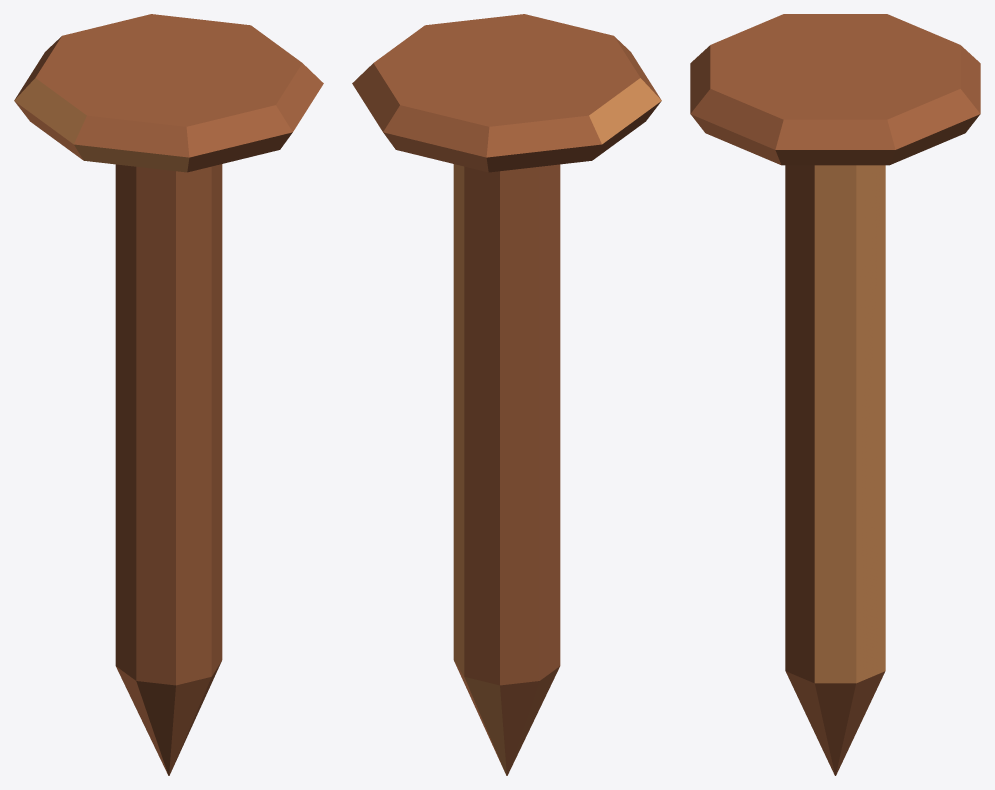
The model's file is Nail_M_Rust.glb.
3 renders of one model, left to right at view 1: azimuth 30°, elevation 25°; view 2: azimuth 150°, elevation 25°; view 3: azimuth 270°, elevation 25°, orthographic.
Parts seen in each view (by area): view 1: Nail_M_Rust; view 2: Nail_M_Rust; view 3: Nail_M_Rust.
Part boxes in pixels (x1,y1,x2,y2): Nail_M_Rust: (14, 14, 323, 775); Nail_M_Rust: (352, 14, 661, 775); Nail_M_Rust: (690, 14, 980, 775).
Size of the model in its own units: 0.0482 by 0.13 by 0.0482.
